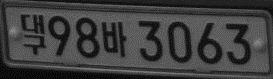0: (167, 21, 193, 63)
3: (226, 22, 251, 65), (137, 20, 163, 61)
6: (197, 22, 223, 64)
8: (75, 16, 100, 57)
9: (47, 14, 70, 56)
대구_V: (20, 13, 46, 55)
바: (101, 21, 126, 56)
